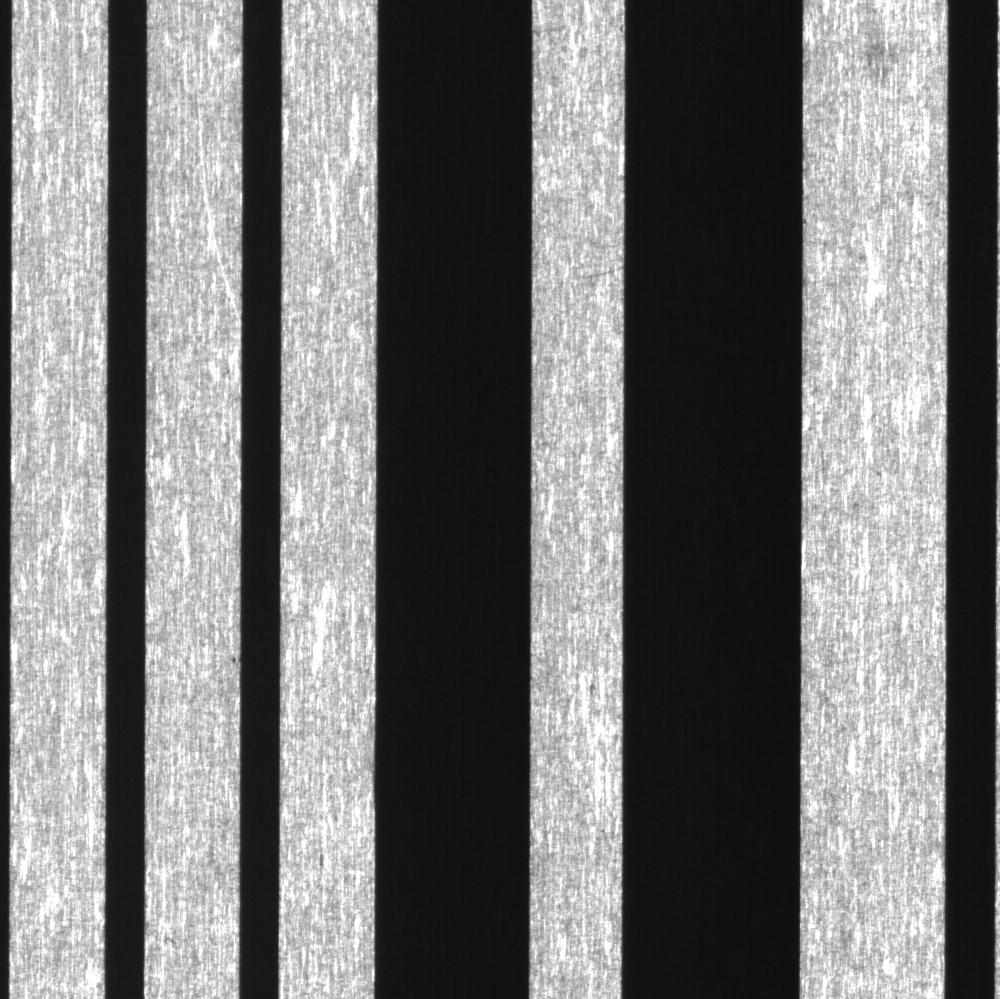Etching: (578, 675, 615, 709), (223, 642, 242, 676)
Scar: (188, 81, 245, 332), (564, 254, 630, 294)
